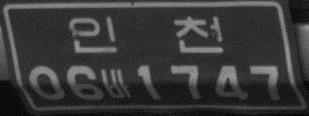0: (28, 62, 65, 105)
1: (134, 62, 163, 103)
4: (212, 63, 249, 102)
6: (65, 62, 105, 104)
7: (247, 63, 281, 104), (168, 62, 201, 102)
바: (100, 65, 131, 103)
인천_D: (66, 12, 226, 55)
